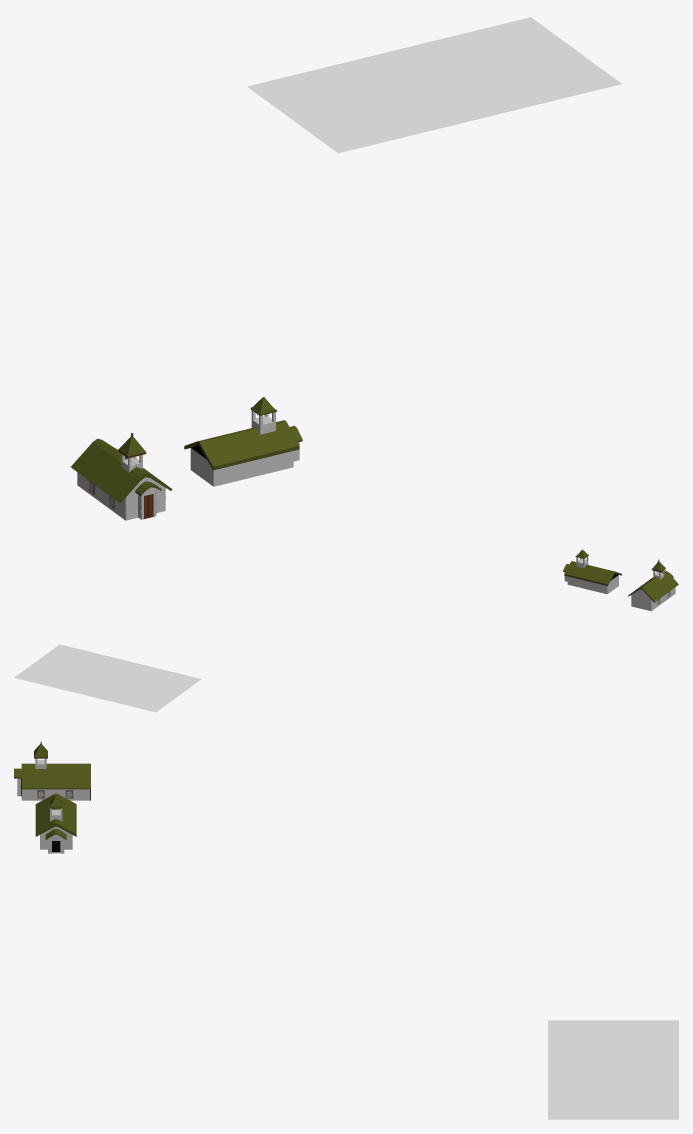
The model's file is Capela low poly_2.fbx.
The picture shows the model from 3 angles, top to bottom: view 1: azimuth 30°, elevation 25°; view 2: azimuth 150°, elevation 25°; view 3: azimuth 270°, elevation 25°; orthographic projection. The views are drawn at different scales.
Visible parts, largest first — view 1: Cube.002, Cube.001, Cube; view 2: Cube.002, Cube.001, Cube; view 3: Cube.002, Cube, Cube.001.
Boxes of the visible parts, bbox=[...] form: Cube.002: bbox=[247, 17, 621, 153]; Cube.001: bbox=[184, 397, 302, 486]; Cube: bbox=[71, 433, 172, 520]; Cube.002: bbox=[14, 644, 201, 712]; Cube.001: bbox=[563, 549, 621, 594]; Cube: bbox=[628, 559, 678, 611]; Cube.002: bbox=[548, 1020, 678, 1119]; Cube: bbox=[14, 741, 90, 800]; Cube.001: bbox=[35, 793, 76, 853].
Size of the model in its own units: 14363 by 1826 by 13261.
